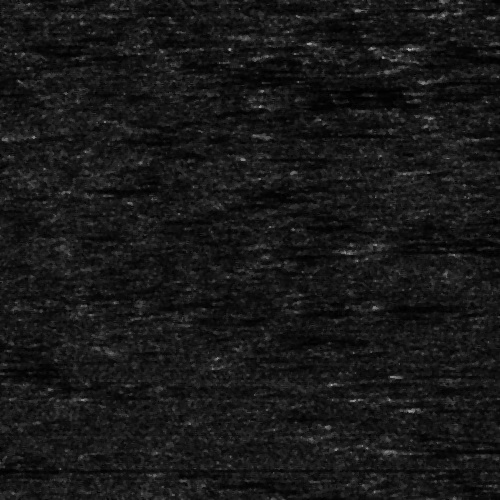object: (390, 34, 463, 53), (374, 439, 467, 452), (314, 247, 387, 252), (351, 239, 404, 242), (395, 88, 436, 91)
shadow: (427, 34, 500, 53), (0, 463, 124, 472), (421, 439, 500, 452), (351, 247, 500, 252), (378, 239, 496, 242), (416, 88, 500, 91), (394, 303, 500, 304)
